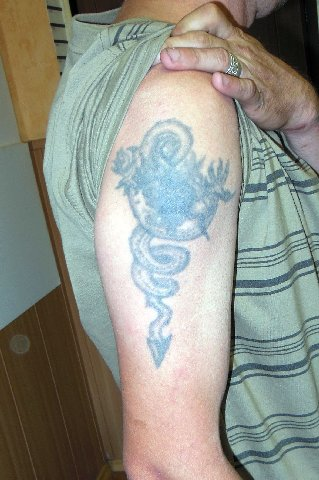tatu7_zmeya: (108, 129, 234, 365)
